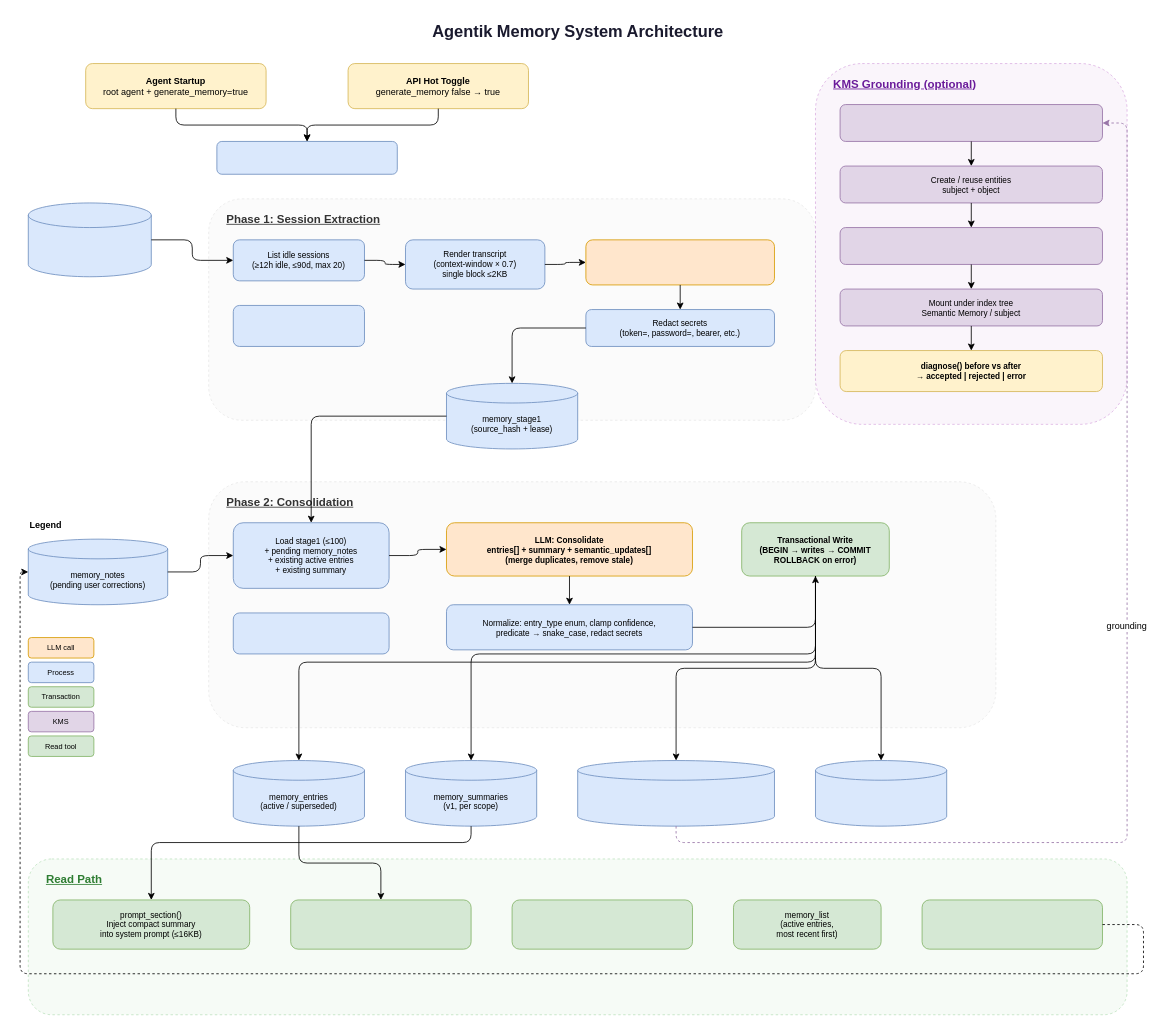
Image size: 1164x1029. Some labels were removed from this diagram. The centre of each missing label's shape, as x and y in pixels:
claim_phase2 (global lease per scope): point 310,633
claim_stage1 (lease + source_hash dedup): point 298,325
Create / reuse knowledge title: "subject · predicate: object": point 970,245
List candidate observations (status=candidate, ≤1000): point 970,122
LLM: Extract raw_memory + rollout_summary + rollout_slug (JSON): point 679,262
memory_jobs (lease + status + hash): point 881,793
memory_note (queue user correction for next consolidation): point 1011,924
memory_read (summary or entry by UUID with offset + limit): point 601,924
memory_search (case-insensitive substring across entries + notes): point 380,924
memory_semantic_observations (candidate → accepted/rejected/error): point 675,793
run_memory_pipeline(): point 306,157
Session Storage (rollouts / WAL): point 89,239
